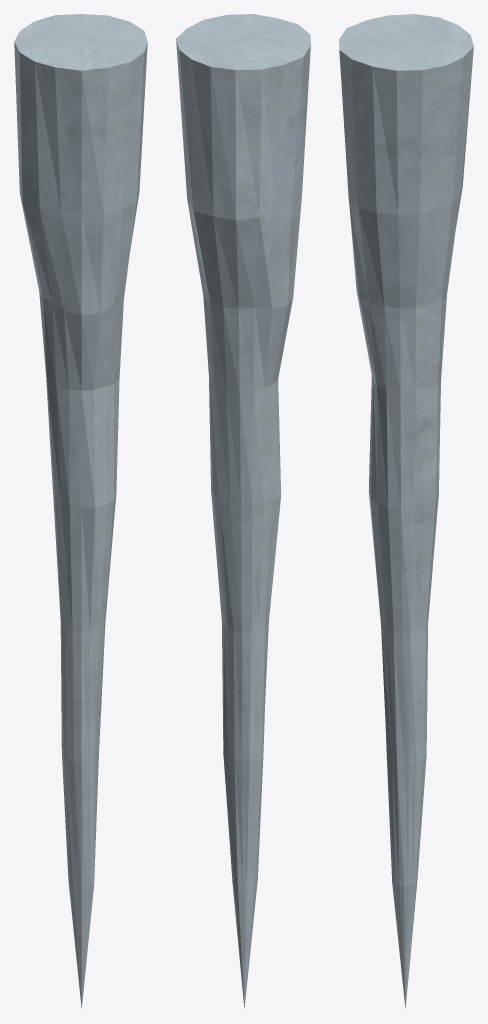
Rendered from icicle-single.obj.
The picture shows the model from 3 angles, left to right: view 1: azimuth 90°, elevation 25°; view 2: azimuth 150°, elevation 25°; view 3: azimuth 330°, elevation 25°; orthographic projection.
Visible parts, largest first — view 1: icicle-single_Cylinder; view 2: icicle-single_Cylinder; view 3: icicle-single_Cylinder.
Part boxes in pixels (x1,y1,x2,y2): icicle-single_Cylinder: [14, 14, 147, 1008]; icicle-single_Cylinder: [176, 14, 310, 1008]; icicle-single_Cylinder: [339, 14, 473, 1008].
Size of the model in its own units: 0.2565 by 2.03 by 0.2536.
1 material, 1 textured.
